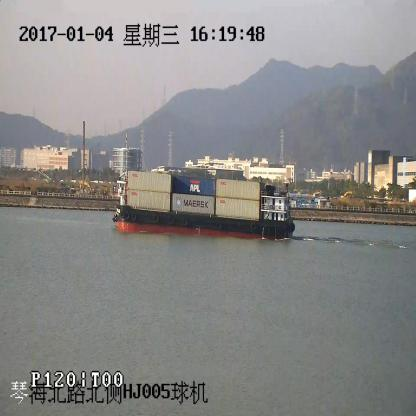Container Ship: (113, 167, 295, 239)
